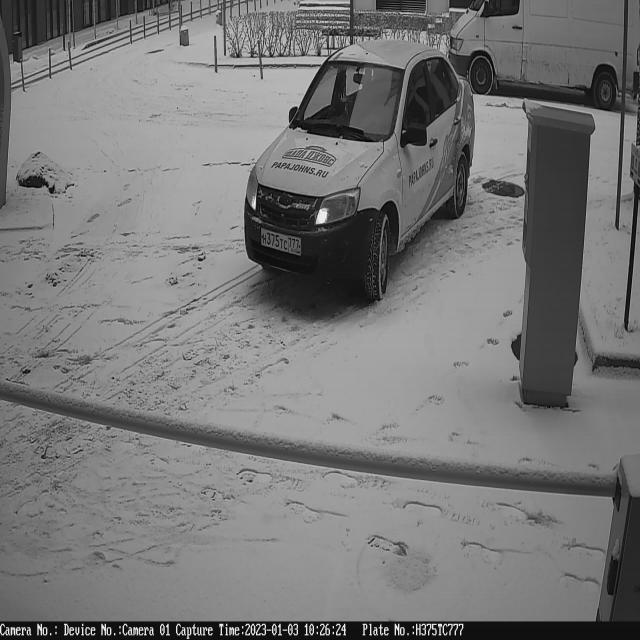car-plate-numbers: (260, 224, 305, 260)
